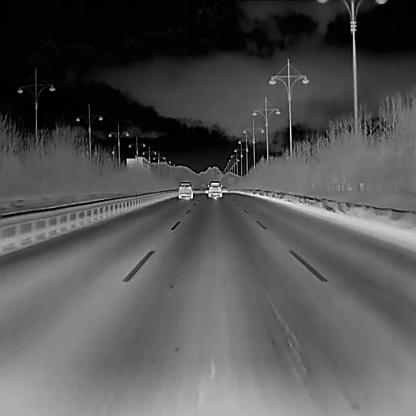car: (177, 180, 192, 199), (209, 180, 222, 198), (221, 185, 226, 193), (204, 187, 210, 193)
